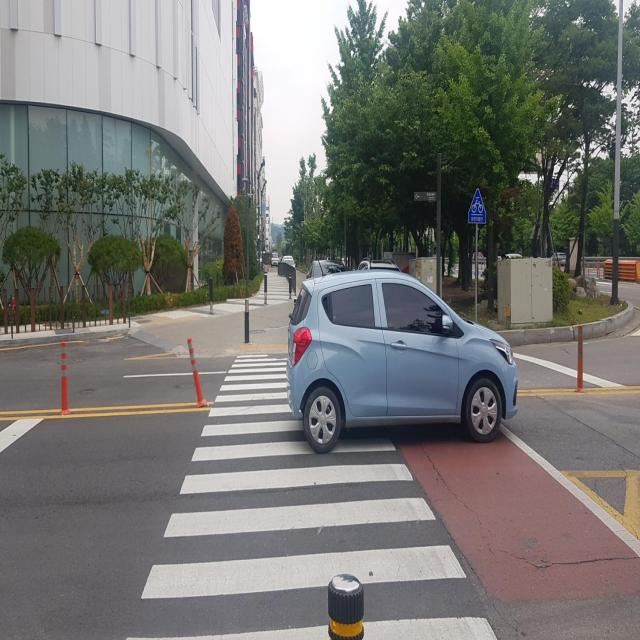횡단보도: (122, 349, 500, 638)
